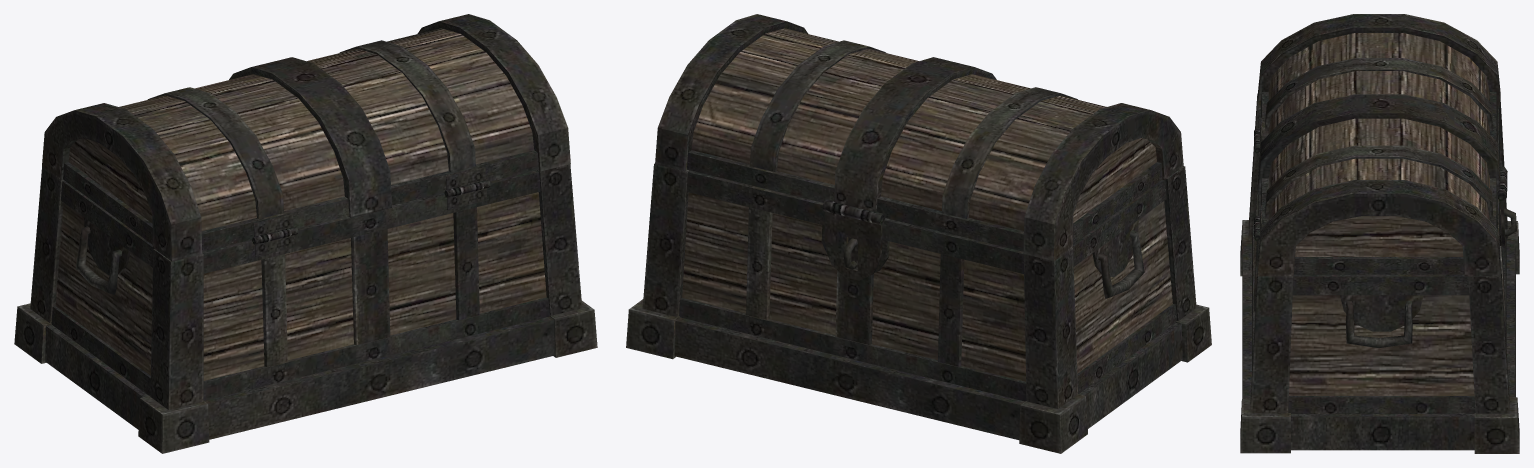
The model's file is eso_gu9_WoodChest1-transformed.glb.
The picture shows the model from 3 angles, left to right: view 1: azimuth 30°, elevation 25°; view 2: azimuth 150°, elevation 25°; view 3: azimuth 270°, elevation 25°; orthographic projection. The views are drawn at different scales.
Parts seen in each view (by area): view 1: default; view 2: default; view 3: default.
Part boxes in pixels (x1=…): default: x1=14, y1=14, x2=597, y2=453; default: x1=626, y1=14, x2=1211, y2=453; default: x1=1240, y1=14, x2=1519, y2=453.
Bounding box in the file's own units: 1.55 × 0.9102 × 0.9207.
Materials: 1 (1 with a texture image).
